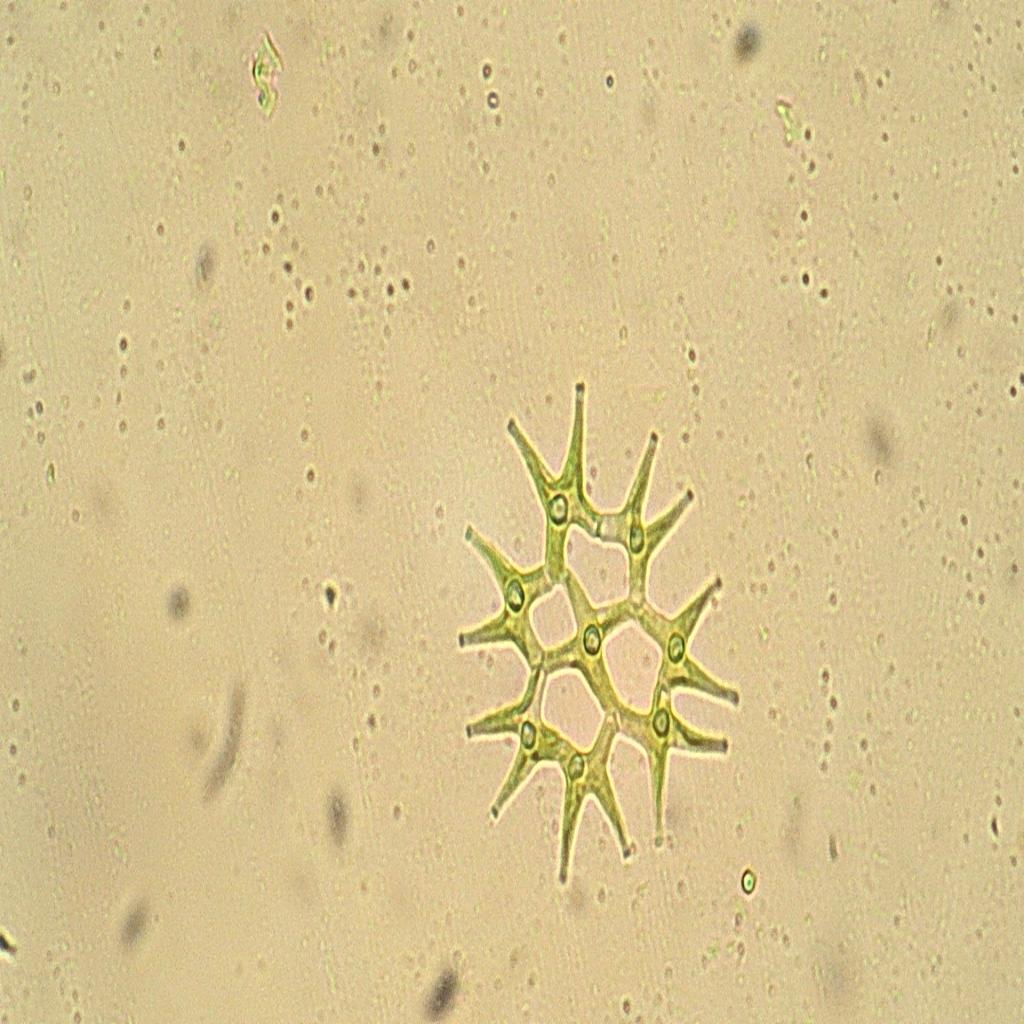Pediastrum_1T: (440, 368, 744, 889)
